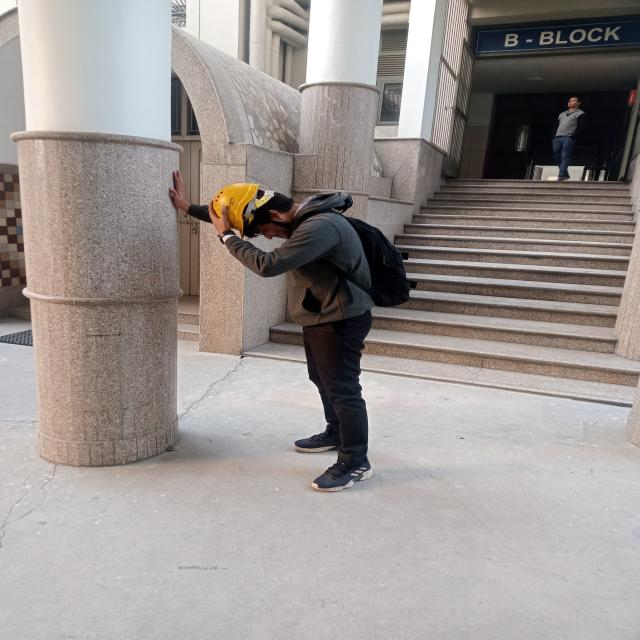no jacket: (172, 169, 412, 494)
unsafe: (549, 94, 591, 183)
